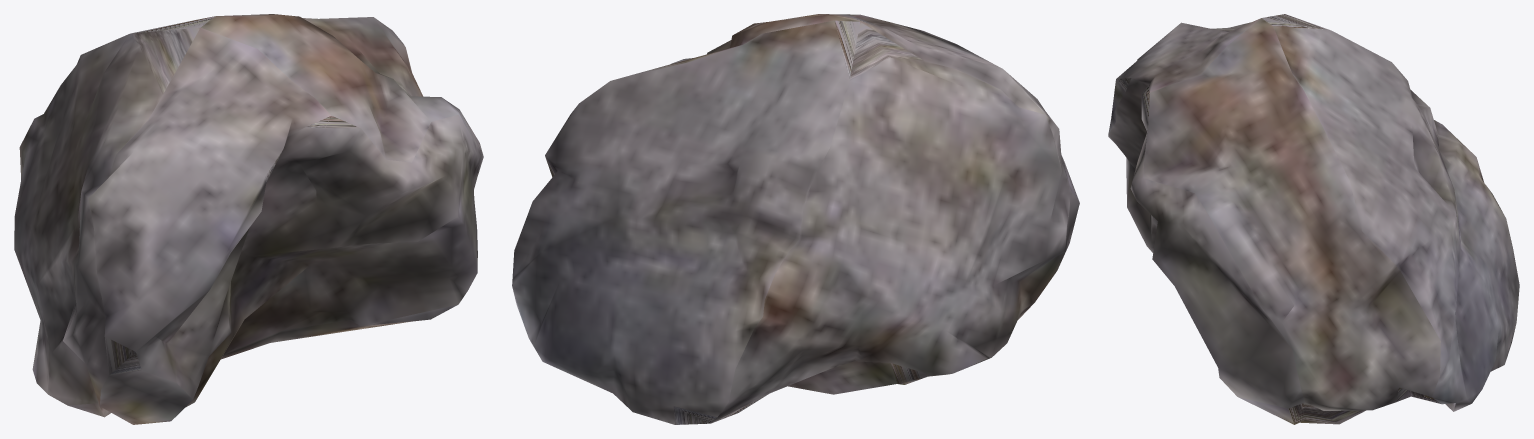
The model's file is bw-cliff-18.lod1.glb.
3 renders of one model, left to right at view 1: azimuth 30°, elevation 25°; view 2: azimuth 150°, elevation 25°; view 3: azimuth 270°, elevation 25°, orthographic. The views are drawn at different scales.
Visible parts, largest first — view 1: Object_2; view 2: Object_2; view 3: Object_2.
Part boxes in pixels (box(x1,y1,x2,y2)): Object_2: box(14, 14, 483, 424); Object_2: box(512, 14, 1079, 424); Object_2: box(1108, 14, 1519, 424).
Size of the model in its own units: 13.93 by 10.42 by 12.21.
Materials: 1 (1 with a texture image).
